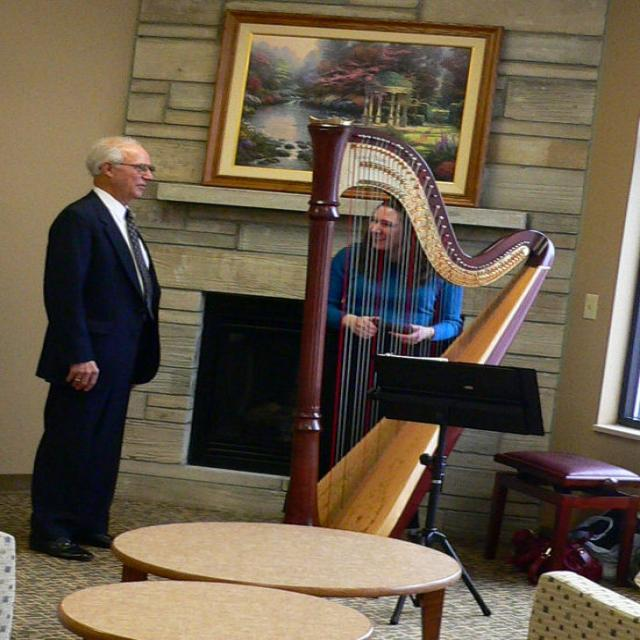harp: (279, 111, 547, 541)
